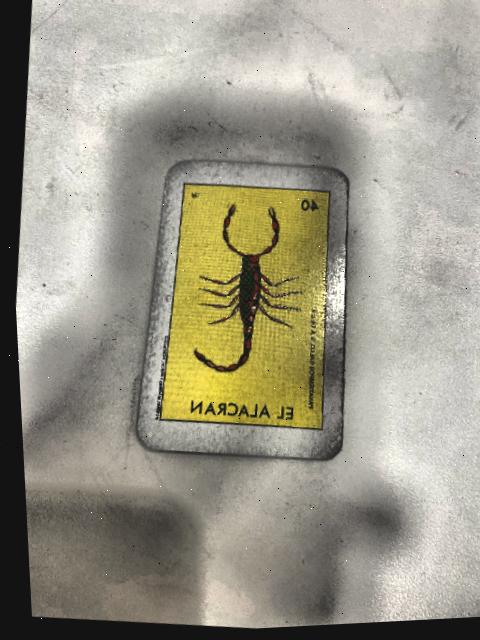El Alacran: (155, 186, 327, 432)
